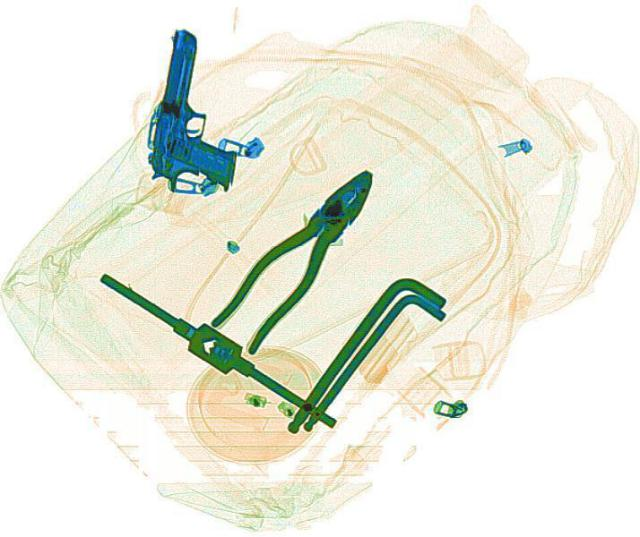Gun: (134, 24, 260, 196)
Pliers: (198, 156, 394, 353)
